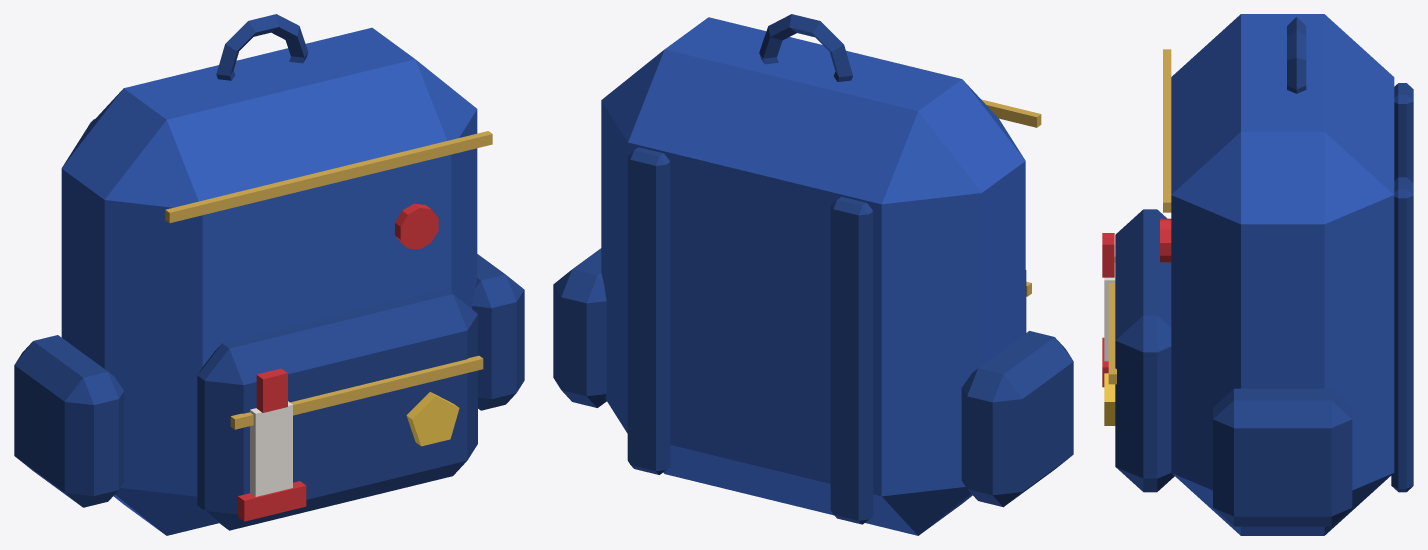
Rendered from backpack.glb.
The picture shows the model from 3 angles, left to right: view 1: azimuth 30°, elevation 25°; view 2: azimuth 150°, elevation 25°; view 3: azimuth 270°, elevation 25°; orthographic projection. The views are drawn at different scales.
Parts seen in each view (by area): view 1: backpack; view 2: backpack; view 3: backpack.
Boxes of the visible parts, x1,y1,x2,y2 form: backpack: [14, 14, 524, 535]; backpack: [553, 14, 1073, 535]; backpack: [1102, 14, 1413, 535].
Size of the model in its own units: 0.37 by 0.3592 by 0.2235.
